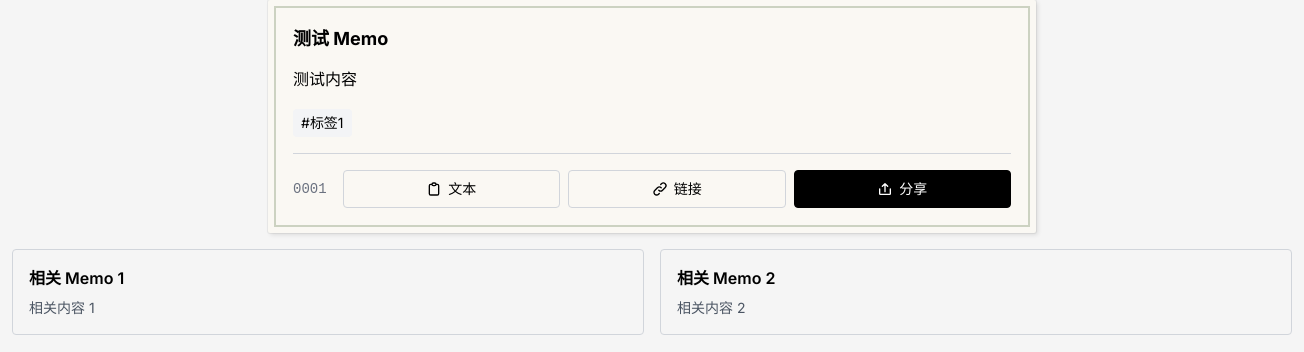
Scenario: MemoModalContent › Navigation › should maintain navigation history
This screenshot has width=1304, height=352.
Expected: the heading "测试 Memo" is shown, [293,28,388,49]
Click the heading "相关 Memo 1": (77, 278) [29,268,124,288]
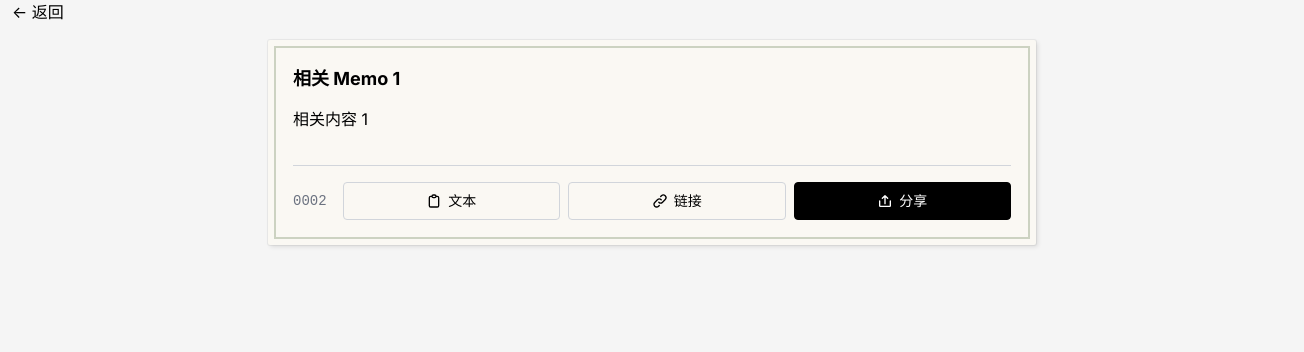
Expected: the heading "相关 Memo 1" is shown, [293,68,400,89]
Expected: the button "← 返回" is shown, [12,0,64,24]
